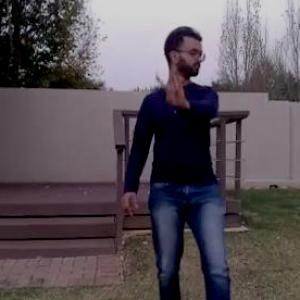takeoff-hand: (160, 66, 189, 108)
